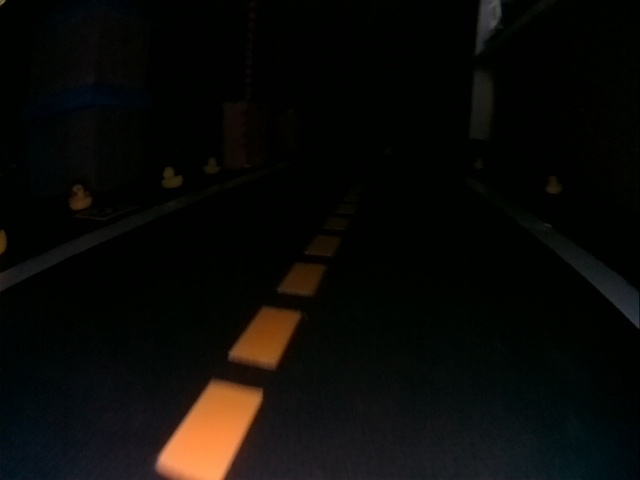Duckie: (70, 184, 92, 209), (163, 166, 182, 188), (546, 174, 561, 194), (204, 158, 217, 173)
QR code: (73, 205, 132, 220)
